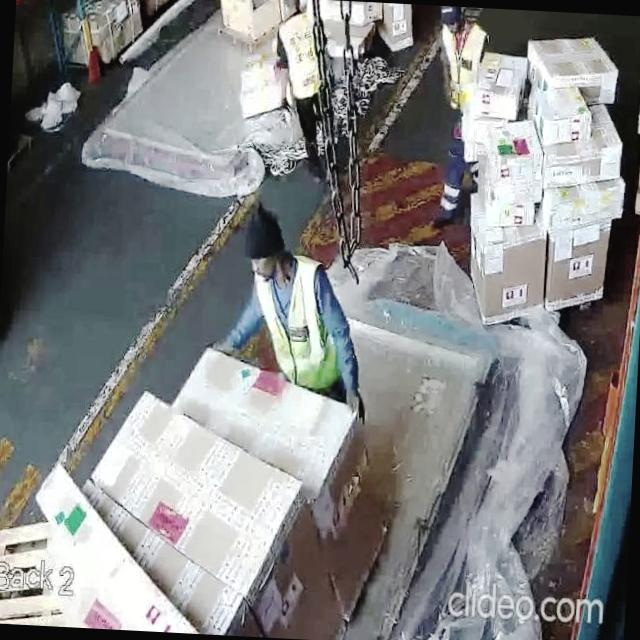Box: (181, 348, 418, 596), (103, 402, 309, 640), (466, 224, 550, 312), (527, 36, 618, 96), (544, 228, 609, 310), (484, 122, 546, 184), (468, 47, 521, 117), (554, 147, 626, 187), (551, 186, 625, 224), (538, 88, 586, 136)
